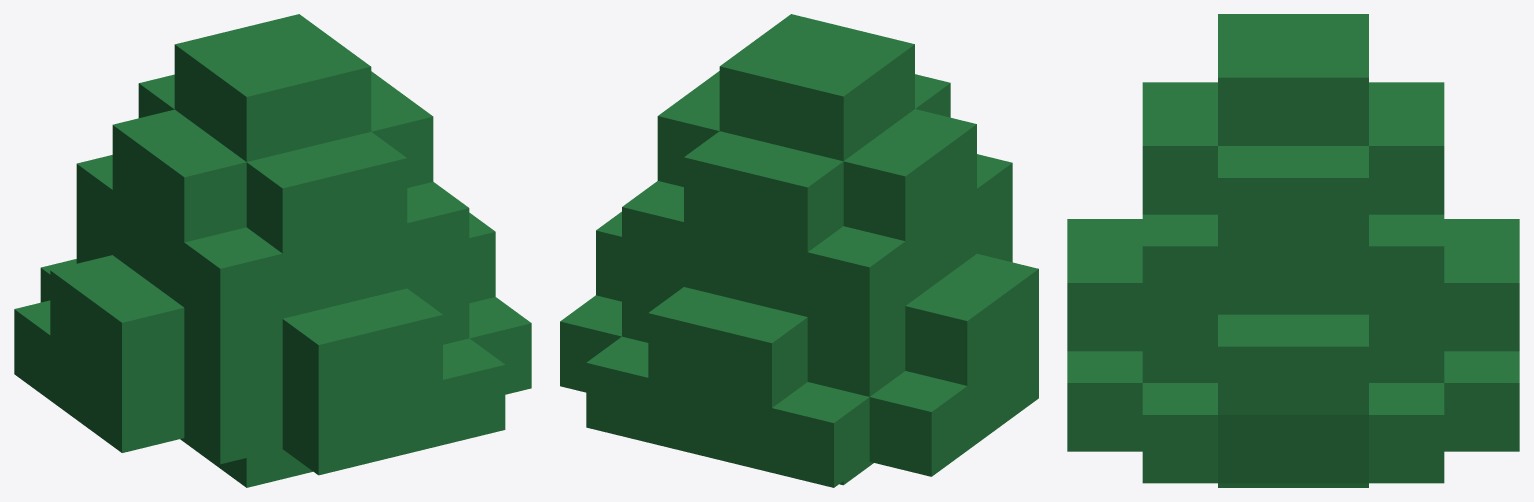
Rendered from Brush-2.obj.
The picture shows the model from 3 angles, left to right: view 1: azimuth 30°, elevation 25°; view 2: azimuth 150°, elevation 25°; view 3: azimuth 270°, elevation 25°; orthographic projection. The views are drawn at different scales.
Bounding box in the file's own units: 0.6 × 0.6 × 0.6.
Materials: 1 (1 with a texture image).
